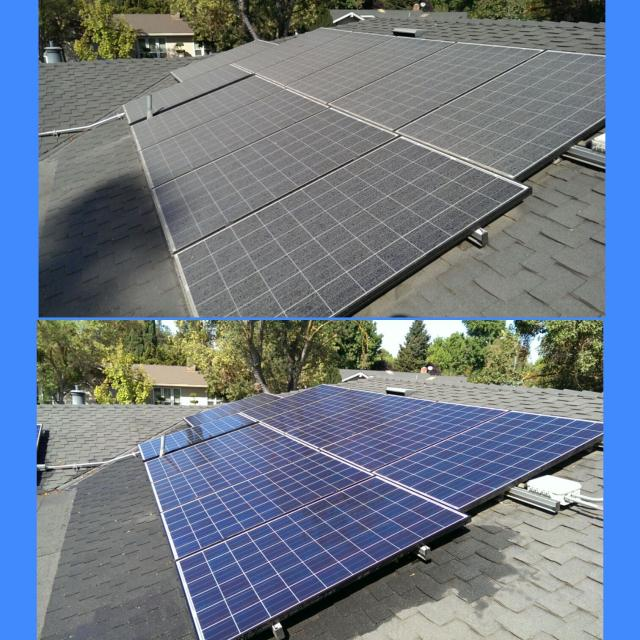clean-solar-panel: (137, 385, 604, 640)
